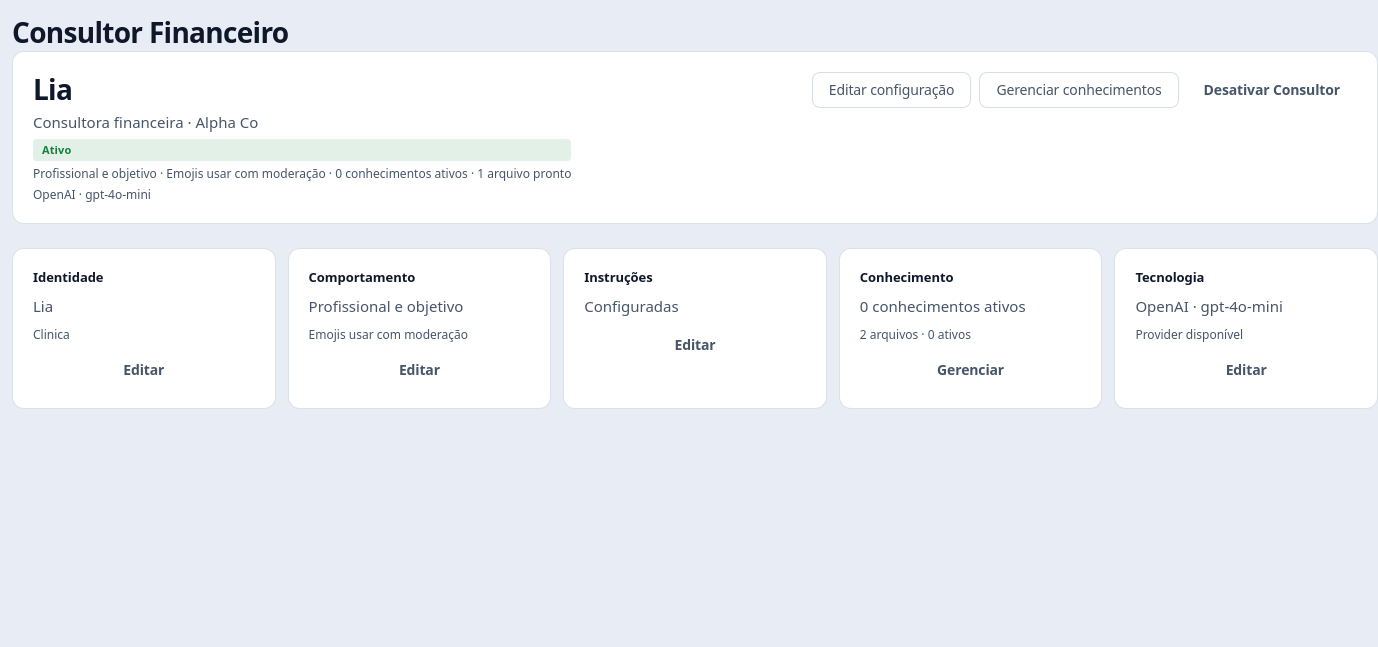
Scenario: UI arquivos da Base de Conhecimento (F13.8.2B) › lista READY/FAILED, bloqueia ativar FAILED e permite ativar READY
Click the button "Gerenciar conhecimentos" at (1079, 90), box [979,72,1178,108]
(page scrolled)
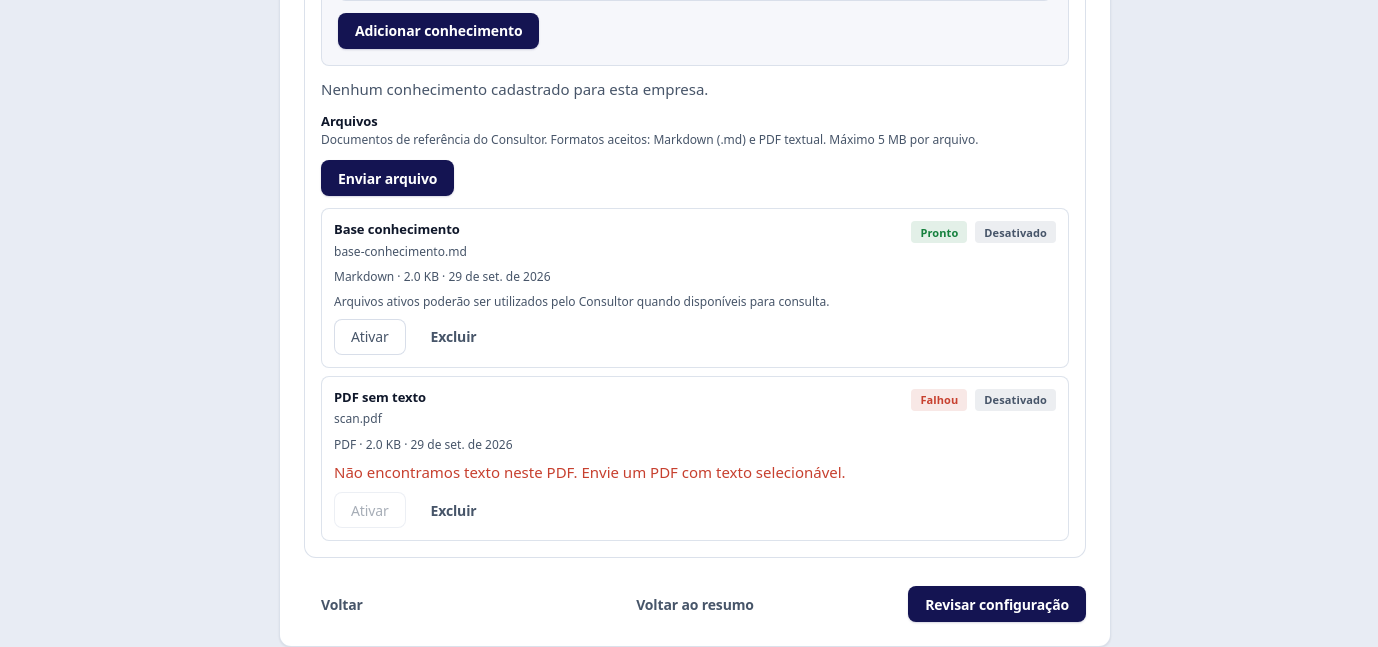
expect the element with test id "consultant-knowledge-documents" is shown: met, box [321,113,1069,541]
expect the element with test id "knowledge-document-doc-ready" is shown: met, box [321,208,1069,368]
expect the text "Falhou" is shown: met, box [911,389,967,411]
Click the button "Ativar" below "base-conhecimento.md" at (370, 337), box [334,319,406,355]
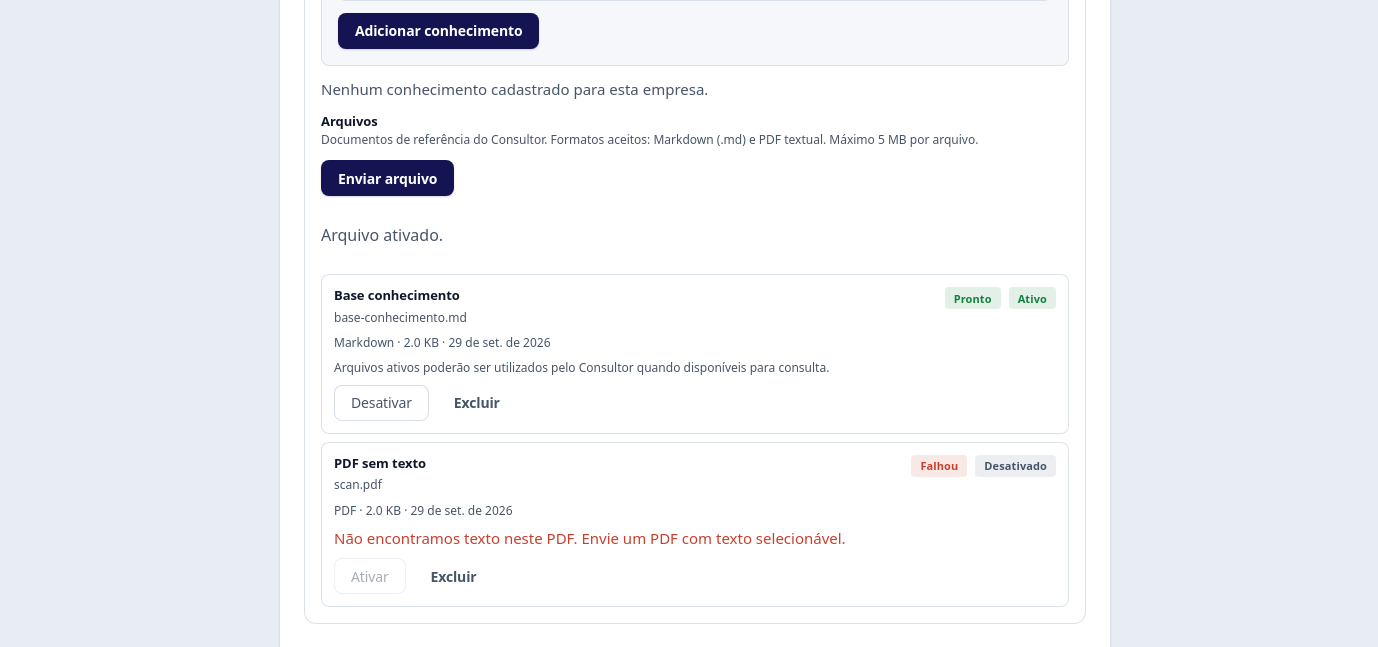
expect the text "Arquivo ativado." is shown: met, box [321,224,443,246]
